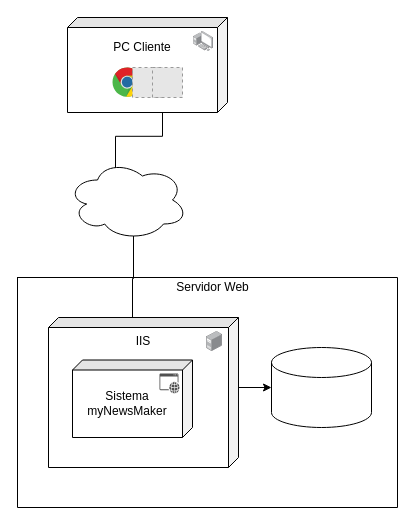
Some shapes in this 415 by 525 pixel diagram are drawn without their labels. Grey dashed boxes stand in for pictures. The shapes that lost their labels are listed below. From the top down, each one's centre as x and y in pixels, then its label:
At point 127,199: "Internet".
At point 321,387: "Base de datos".
